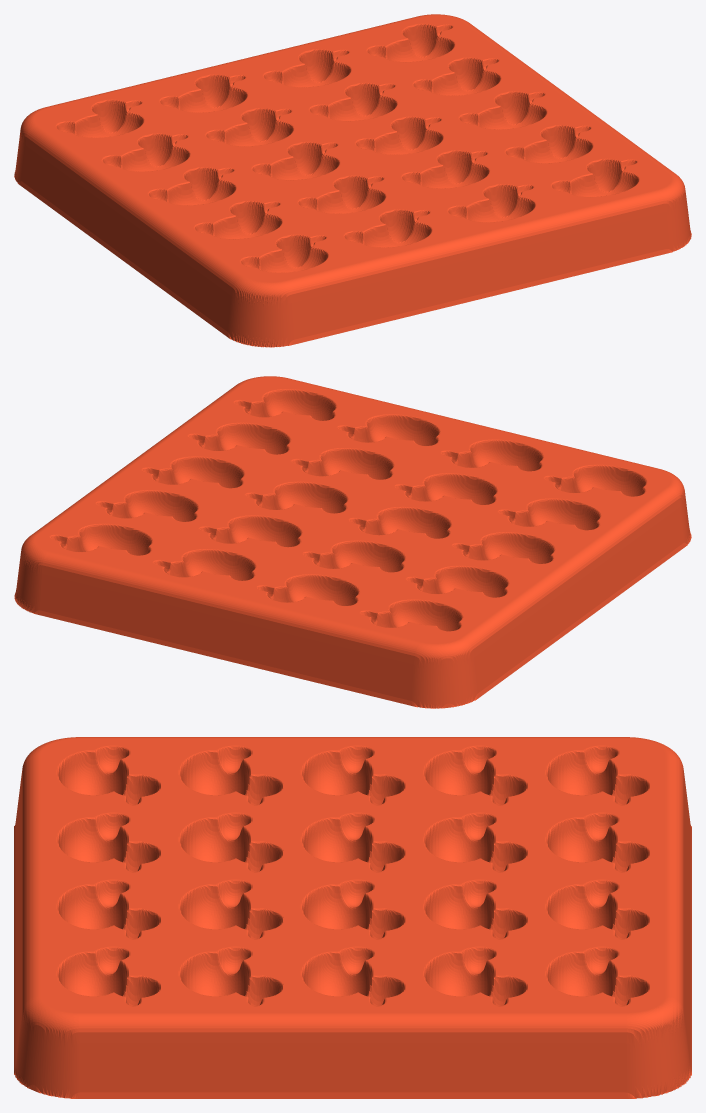
Rendered from mold.glb.
3 renders of one model, top to bottom at view 1: azimuth 30°, elevation 25°; view 2: azimuth 150°, elevation 25°; view 3: azimuth 270°, elevation 25°, orthographic. The views are drawn at different scales.
Parts seen in each view (by area): view 1: geometry_0; view 2: geometry_0; view 3: geometry_0.
Part boxes in pixels (x1,y1,x2,y2): geometry_0: (14, 14, 691, 347); geometry_0: (14, 376, 691, 708); geometry_0: (14, 737, 691, 1098).
Bounding box in the file's own units: 0.0964 × 0.0114 × 0.0932.
